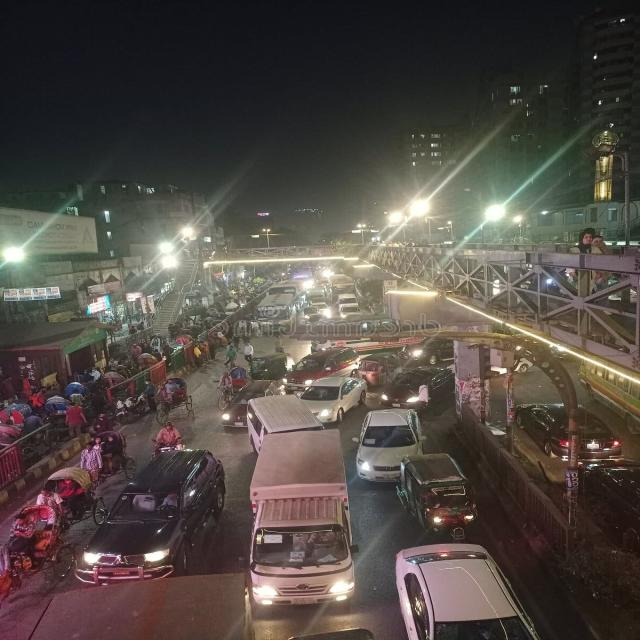CNG: (396, 456, 484, 540)
Car: (372, 533, 544, 640), (347, 406, 429, 491)
Pick-up-van: (241, 427, 359, 610)
Rickshaw: (1, 501, 63, 588), (148, 376, 193, 427)
Zeep: (80, 449, 235, 587)
